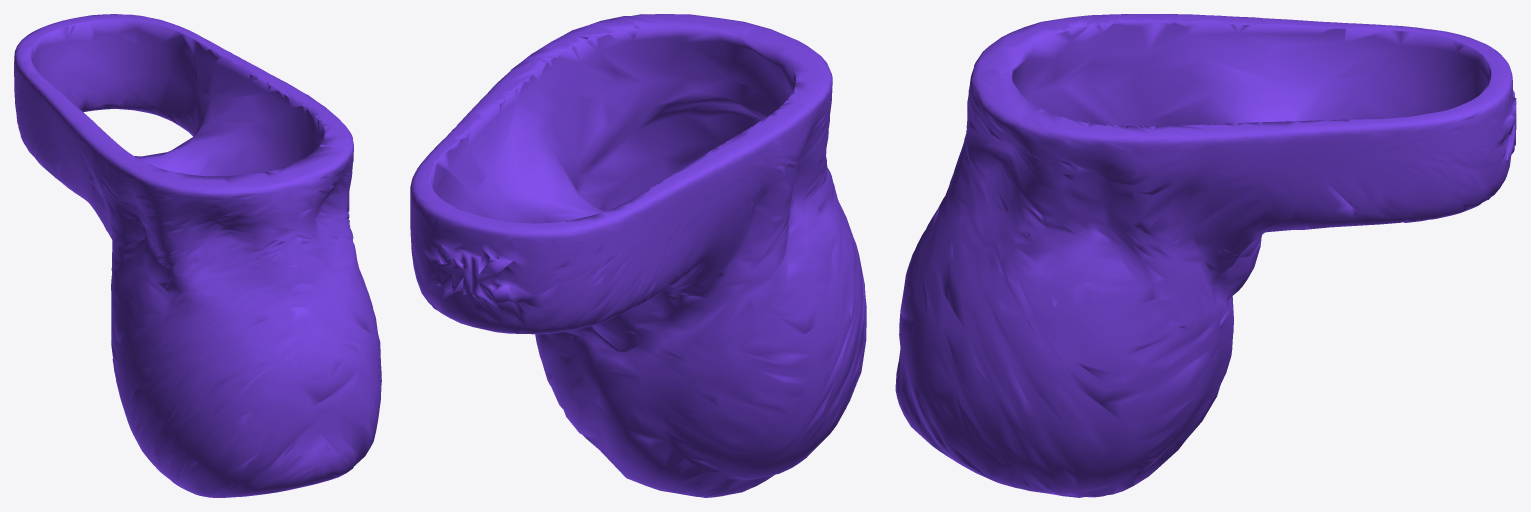
The model's file is wolf-well-ar.glb.
3 renders of one model, left to right at view 1: azimuth 30°, elevation 25°; view 2: azimuth 150°, elevation 25°; view 3: azimuth 270°, elevation 25°, orthographic. The views are drawn at different scales.
Size of the model in its own units: 0.0496 by 0.0703 by 0.0979.
